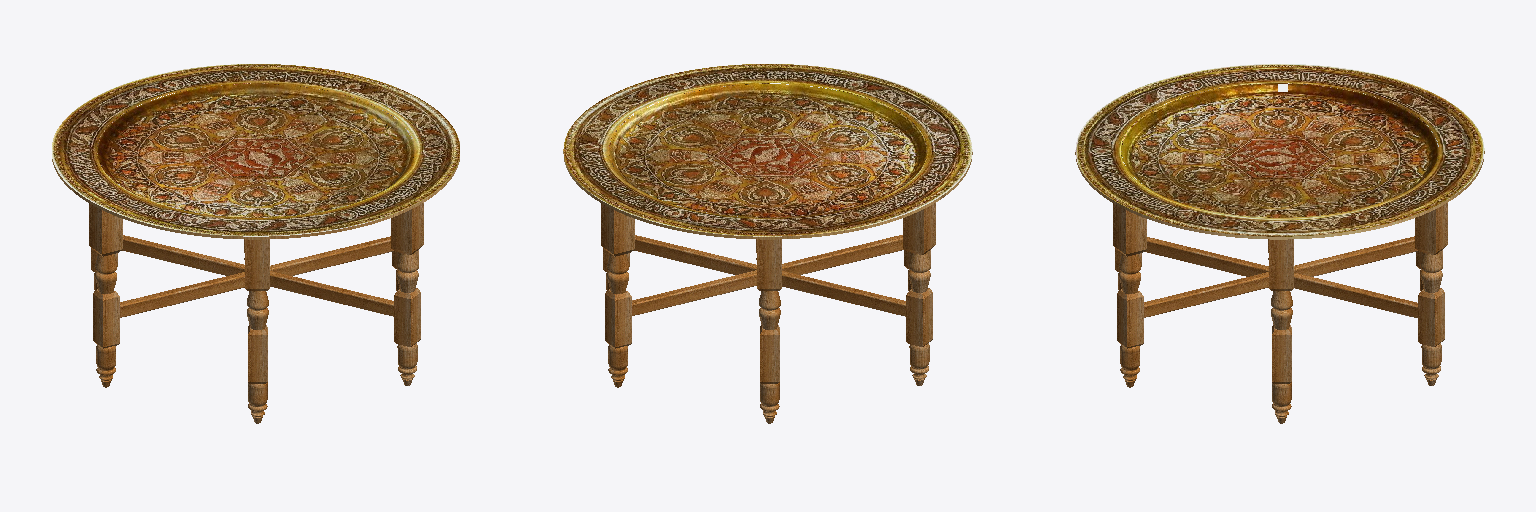
3 views of the same model, side by side, from view 1: azimuth 30°, elevation 25°; view 2: azimuth 150°, elevation 25°; view 3: azimuth 270°, elevation 25° (orthographic).
Parts seen in each view (by area): view 1: Mesh1 Group2 Group1 Component_584_1 Model, Mesh24 Component_582_2 Group1 Component_584_1 Model, Mesh23 Component_582_1 Group1 Component_584_1 Model, Mesh33 Group12 Component_583_5 Group1 Component_584_1 Model, Mesh26 Group10 Component_583_4 Group1 Component_584_1 Model, Mesh32 Group11 Component_583_5 Group1 Component_584_1 Model, Mesh25 Group9 Component_583_4 Group1 Component_584_1 Model, Mesh39 Group13 Component_583_6 Group1 Component_584_1 Model, Mesh40 Group14 Component_583_6 Group1 Component_584_1 Model, Mesh28 Component_583_4 Group1 Component_584_1 Model, Mesh42 Component_583_6 Group1 Component_584_1 Model, Mesh35 Component_583_5 Group1 Component_584_1 Model (+3 smaller); view 2: Mesh1 Group2 Group1 Component_584_1 Model, Mesh53 Component_582_3 Group1 Component_584_1 Model, Mesh23 Component_582_1 Group1 Component_584_1 Model, Mesh17 Group8 Component_583_3 Group1 Component_584_1 Model, Mesh33 Group12 Component_583_5 Group1 Component_584_1 Model, Mesh16 Group7 Component_583_3 Group1 Component_584_1 Model, Mesh32 Group11 Component_583_5 Group1 Component_584_1 Model, Mesh2 Group3 Component_583_1 Group1 Component_584_1 Model, Mesh3 Group4 Component_583_1 Group1 Component_584_1 Model, Mesh5 Component_583_1 Group1 Component_584_1 Model, Mesh35 Component_583_5 Group1 Component_584_1 Model, Mesh19 Component_583_3 Group1 Component_584_1 Model (+3 smaller); view 3: Mesh1 Group2 Group1 Component_584_1 Model, Mesh24 Component_582_2 Group1 Component_584_1 Model, Mesh53 Component_582_3 Group1 Component_584_1 Model, Mesh26 Group10 Component_583_4 Group1 Component_584_1 Model, Mesh17 Group8 Component_583_3 Group1 Component_584_1 Model, Mesh25 Group9 Component_583_4 Group1 Component_584_1 Model, Mesh16 Group7 Component_583_3 Group1 Component_584_1 Model, Mesh9 Group5 Component_583_2 Group1 Component_584_1 Model, Mesh10 Group6 Component_583_2 Group1 Component_584_1 Model, Mesh12 Component_583_2 Group1 Component_584_1 Model, Mesh19 Component_583_3 Group1 Component_584_1 Model, Mesh28 Component_583_4 Group1 Component_584_1 Model (+3 smaller).
Boxes of the visible parts, box(x1,y1,x2,y2) form: Mesh1 Group2 Group1 Component_584_1 Model: box(52, 64, 459, 239); Mesh24 Component_582_2 Group1 Component_584_1 Model: box(122, 235, 393, 316); Mesh23 Component_582_1 Group1 Component_584_1 Model: box(120, 236, 393, 317); Mesh33 Group12 Component_583_5 Group1 Component_584_1 Model: box(93, 289, 119, 348); Mesh26 Group10 Component_583_4 Group1 Component_584_1 Model: box(394, 288, 420, 346); Mesh32 Group11 Component_583_5 Group1 Component_584_1 Model: box(89, 203, 122, 256); Mesh25 Group9 Component_583_4 Group1 Component_584_1 Model: box(391, 203, 423, 254); Mesh39 Group13 Component_583_6 Group1 Component_584_1 Model: box(245, 239, 269, 290); Mesh40 Group14 Component_583_6 Group1 Component_584_1 Model: box(248, 325, 267, 383); Mesh28 Component_583_4 Group1 Component_584_1 Model: box(396, 252, 418, 292); Mesh42 Component_583_6 Group1 Component_584_1 Model: box(247, 291, 268, 329); Mesh35 Component_583_5 Group1 Component_584_1 Model: box(95, 254, 116, 293); Mesh1 Group2 Group1 Component_584_1 Model: box(563, 64, 972, 239); Mesh53 Component_582_3 Group1 Component_584_1 Model: box(632, 235, 904, 315); Mesh23 Component_582_1 Group1 Component_584_1 Model: box(634, 235, 905, 316); Mesh17 Group8 Component_583_3 Group1 Component_584_1 Model: box(605, 289, 631, 348); Mesh33 Group12 Component_583_5 Group1 Component_584_1 Model: box(906, 288, 932, 346); Mesh16 Group7 Component_583_3 Group1 Component_584_1 Model: box(601, 203, 634, 256); Mesh32 Group11 Component_583_5 Group1 Component_584_1 Model: box(903, 203, 935, 254); Mesh2 Group3 Component_583_1 Group1 Component_584_1 Model: box(757, 239, 781, 290); Mesh3 Group4 Component_583_1 Group1 Component_584_1 Model: box(760, 325, 779, 383); Mesh5 Component_583_1 Group1 Component_584_1 Model: box(759, 291, 780, 329); Mesh35 Component_583_5 Group1 Component_584_1 Model: box(908, 252, 930, 292); Mesh19 Component_583_3 Group1 Component_584_1 Model: box(607, 254, 628, 293); Mesh1 Group2 Group1 Component_584_1 Model: box(1075, 64, 1484, 239); Mesh24 Component_582_2 Group1 Component_584_1 Model: box(1144, 236, 1417, 317); Mesh53 Component_582_3 Group1 Component_584_1 Model: box(1144, 237, 1417, 317); Mesh26 Group10 Component_583_4 Group1 Component_584_1 Model: box(1117, 289, 1143, 348); Mesh17 Group8 Component_583_3 Group1 Component_584_1 Model: box(1418, 288, 1444, 346); Mesh25 Group9 Component_583_4 Group1 Component_584_1 Model: box(1113, 203, 1146, 256); Mesh16 Group7 Component_583_3 Group1 Component_584_1 Model: box(1415, 203, 1447, 254); Mesh9 Group5 Component_583_2 Group1 Component_584_1 Model: box(1269, 239, 1293, 290); Mesh10 Group6 Component_583_2 Group1 Component_584_1 Model: box(1272, 325, 1291, 383); Mesh12 Component_583_2 Group1 Component_584_1 Model: box(1271, 291, 1292, 329); Mesh19 Component_583_3 Group1 Component_584_1 Model: box(1420, 252, 1442, 292); Mesh28 Component_583_4 Group1 Component_584_1 Model: box(1119, 254, 1140, 293).
Bounding box in the file's own units: 35.43 × 20.21 × 35.43.
Materials: 4 (4 with a texture image).